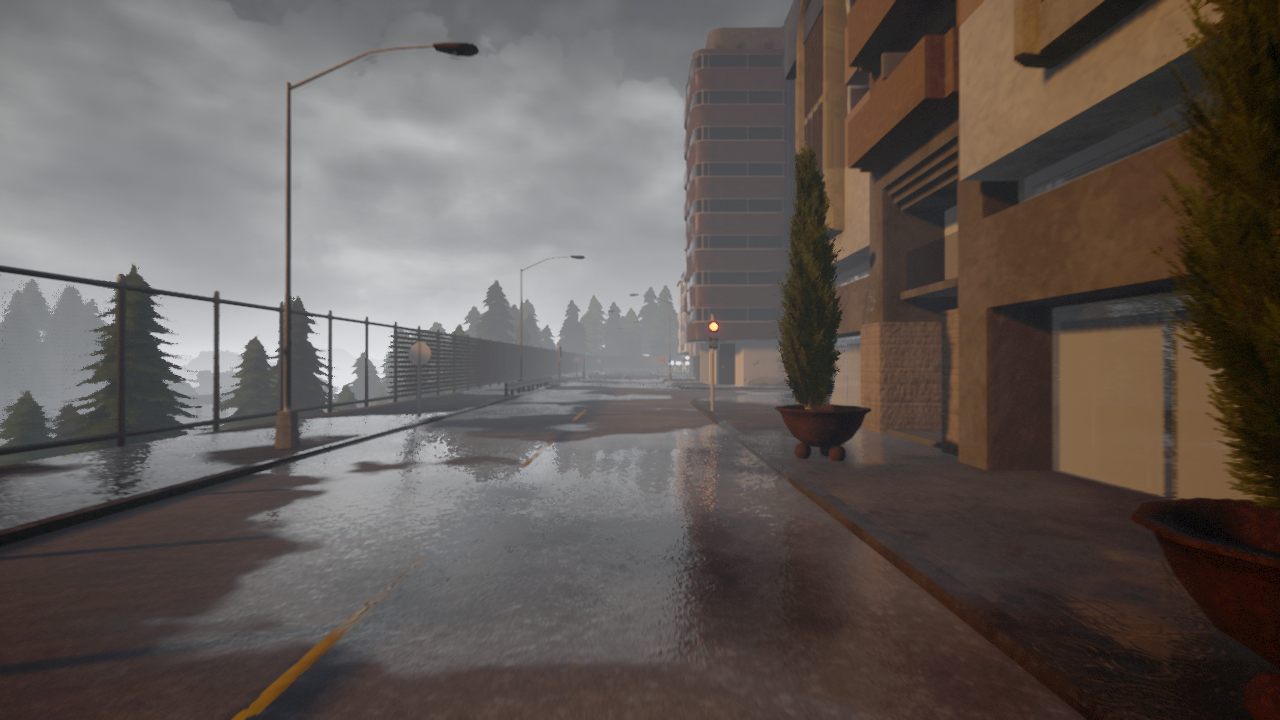red: (709, 320, 719, 348)
